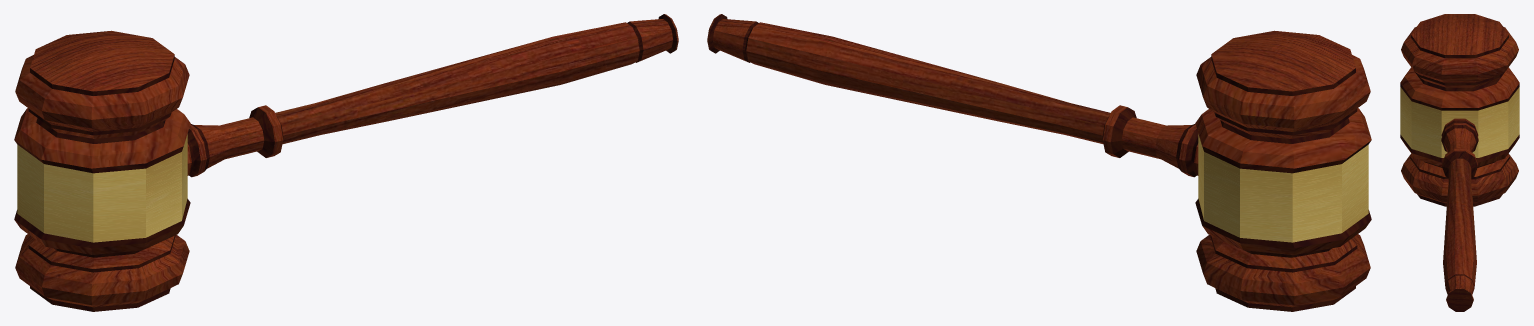
Rendered from Gavel.fbx.
3 views of the same model, side by side, from view 1: azimuth 30°, elevation 25°; view 2: azimuth 150°, elevation 25°; view 3: azimuth 270°, elevation 25° (orthographic). The views are drawn at different scales.
Visible parts, largest first — view 1: ZomboidGavel; view 2: ZomboidGavel; view 3: ZomboidGavel.
Boxes of the visible parts, <box> form: ZomboidGavel: <box>14,14,678,311</box>; ZomboidGavel: <box>707,14,1371,311</box>; ZomboidGavel: <box>1400,14,1519,311</box>.
Bounding box in the file's own units: 0.3177 × 0.1158 × 0.0747.
